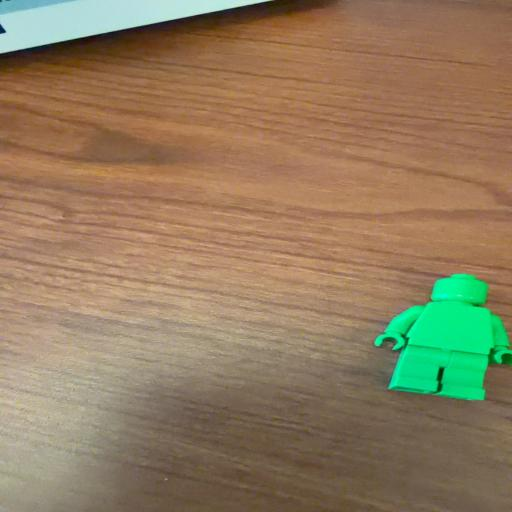UnoQ-minifig-detector: (375, 274, 512, 400)
